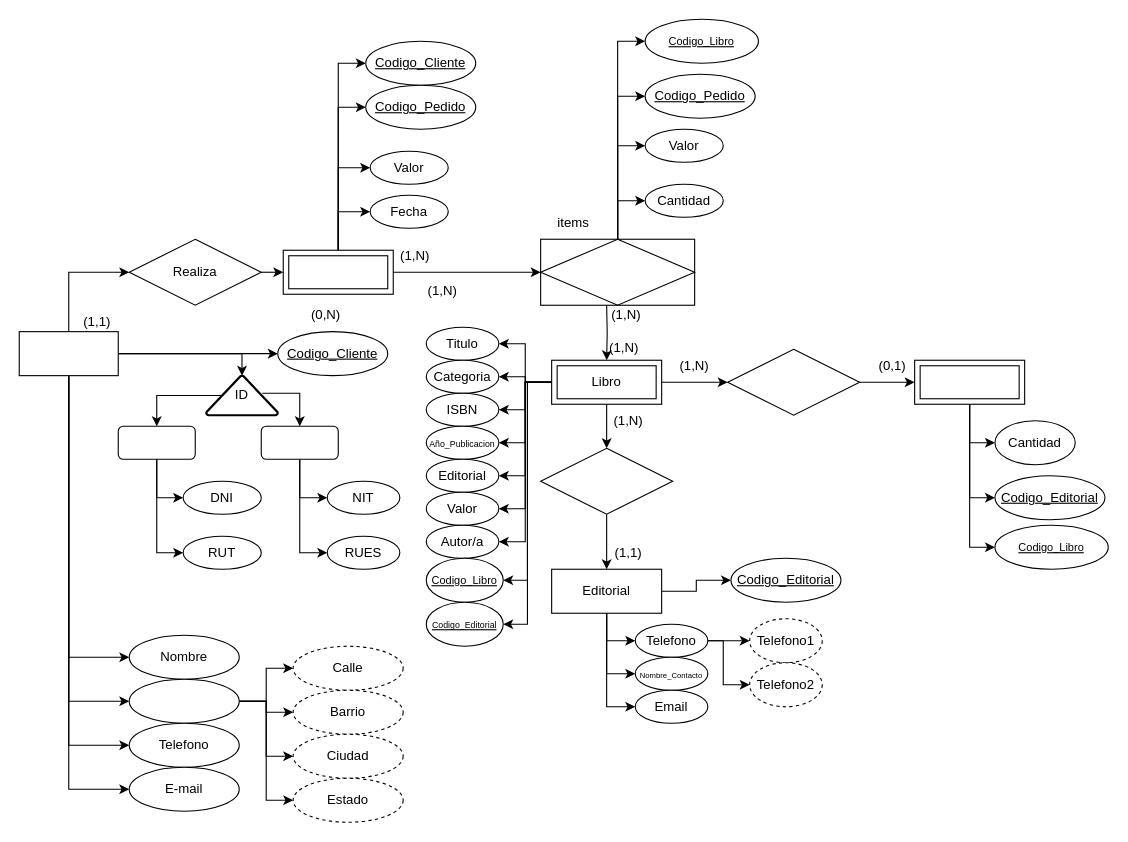
Some shapes in this 1128 by 842 pixel diagram are drawn without their labels. The shapes that lost their labels are listed below. From the top down, each one's centre as x and y in pixels, then its label:
At (x=337, y=271): "Pedido".
At (x=617, y=271): "Contiene".
At (x=68, y=353): "Cliente".
At (x=793, y=381): "Existe".
At (x=969, y=381): "Inventario".
At (x=156, y=442): "PN".
At (x=299, y=442): "PJ".
At (x=606, y=480): "Pertenece".
At (x=183, y=700): "Direccion".
